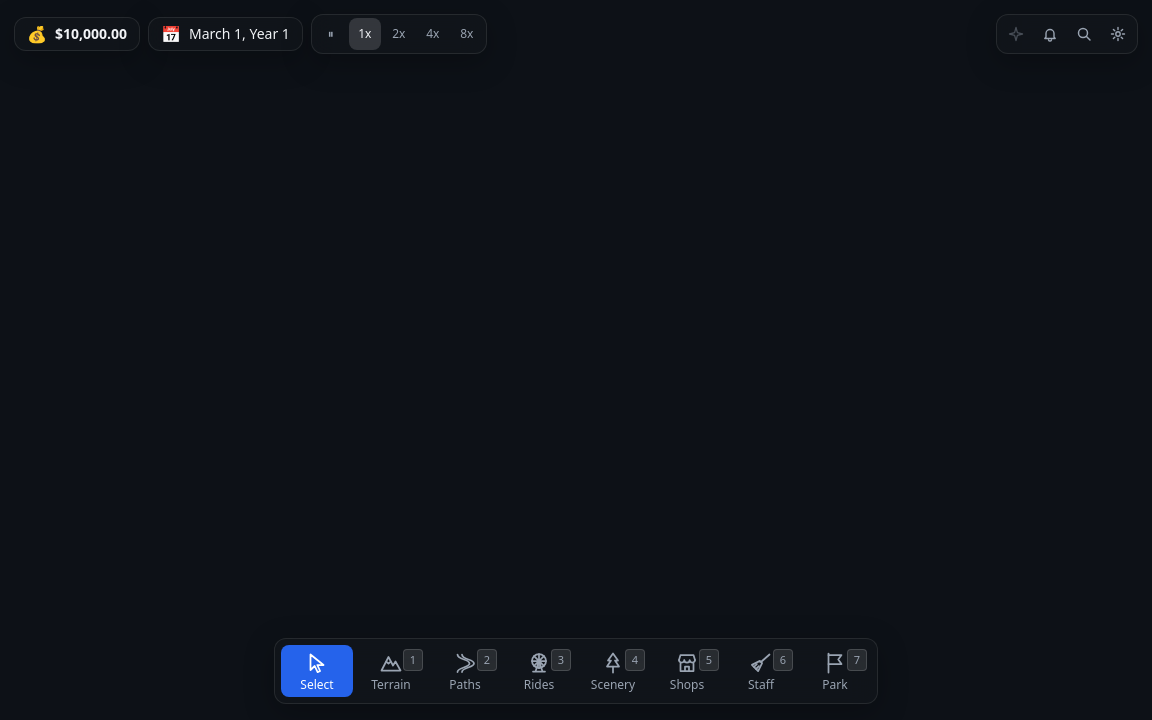
Test: the keyboard map › closes with ? a second time, and with a click outside
The image size is (1152, 720).
Press ?
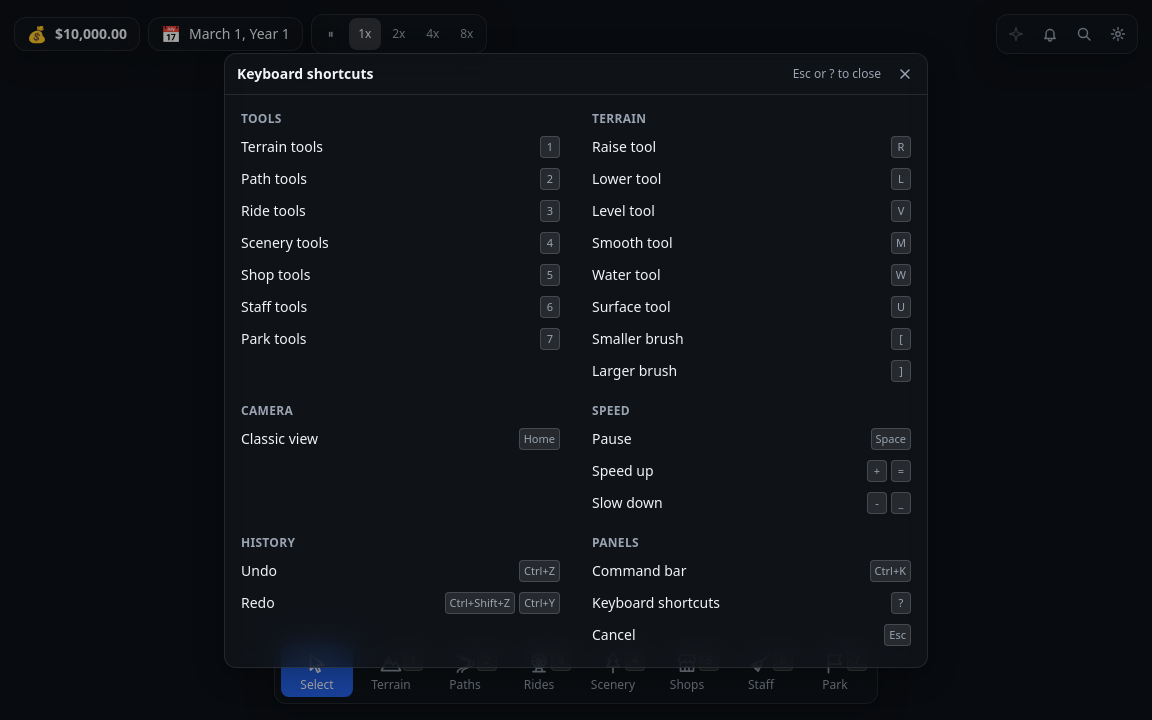
Check: the dialog "Keyboard shortcuts" is shown, box [224,52,928,668]
Press ?
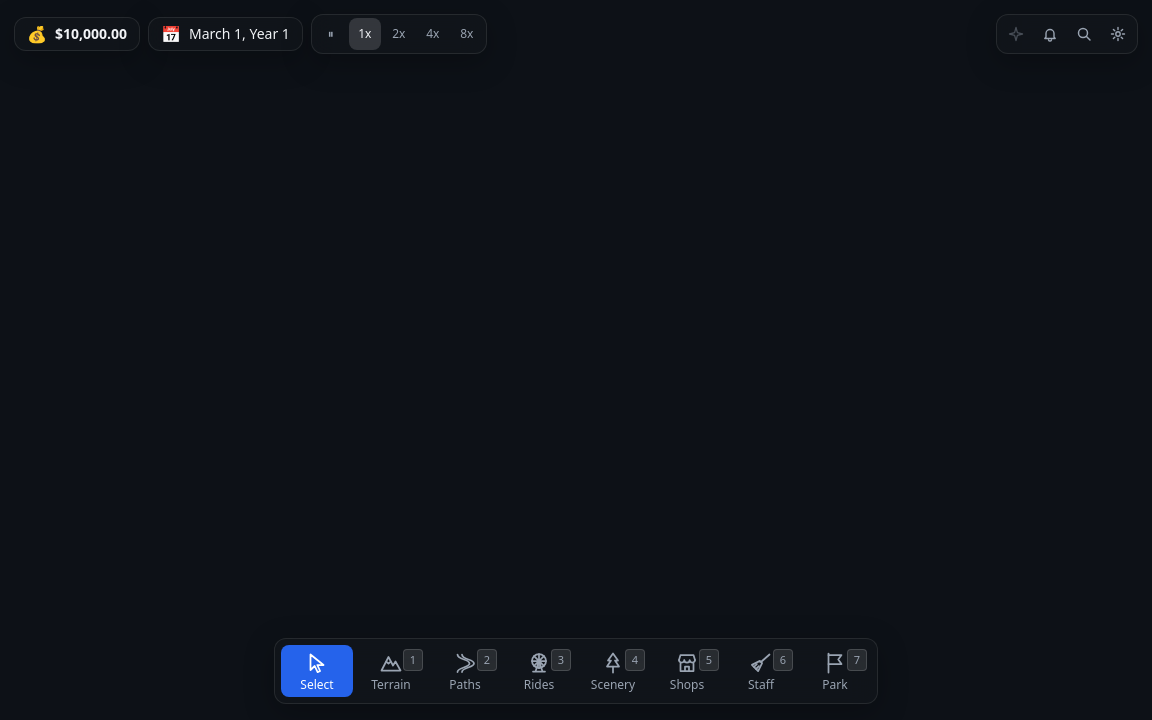
Check: the heading "Keyboard shortcuts" is gone
Press ?
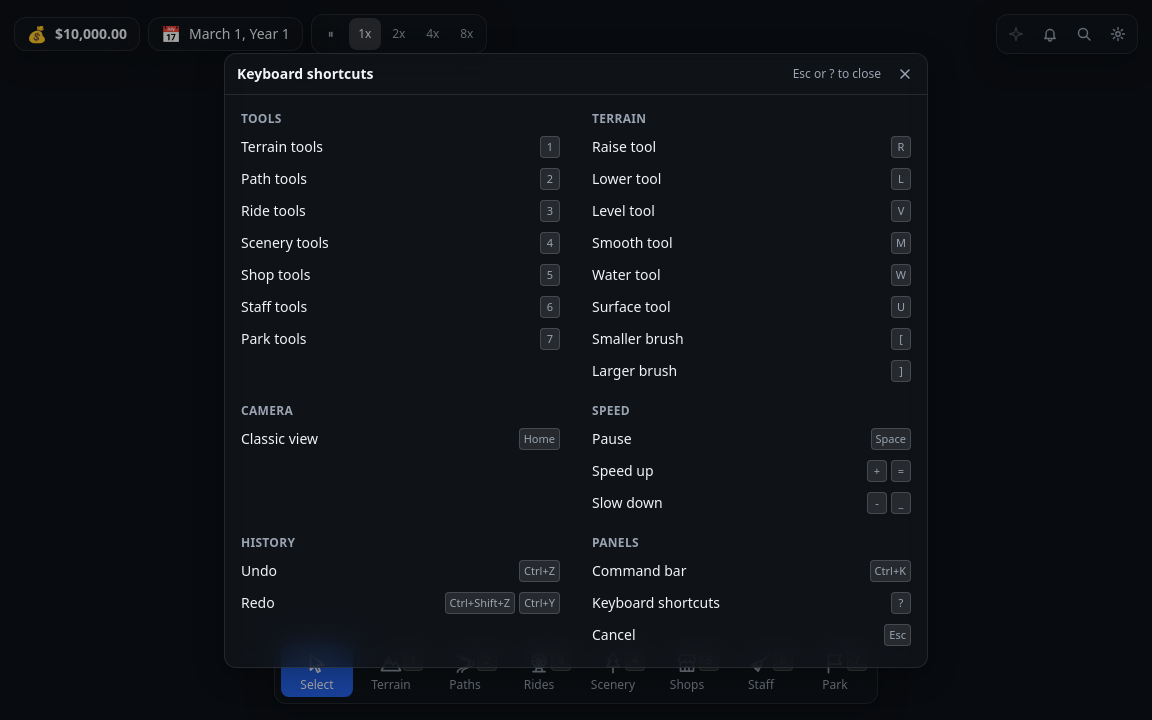
Click the element with test id "help-backdrop" at (69,360), box [0,0,1151,719]
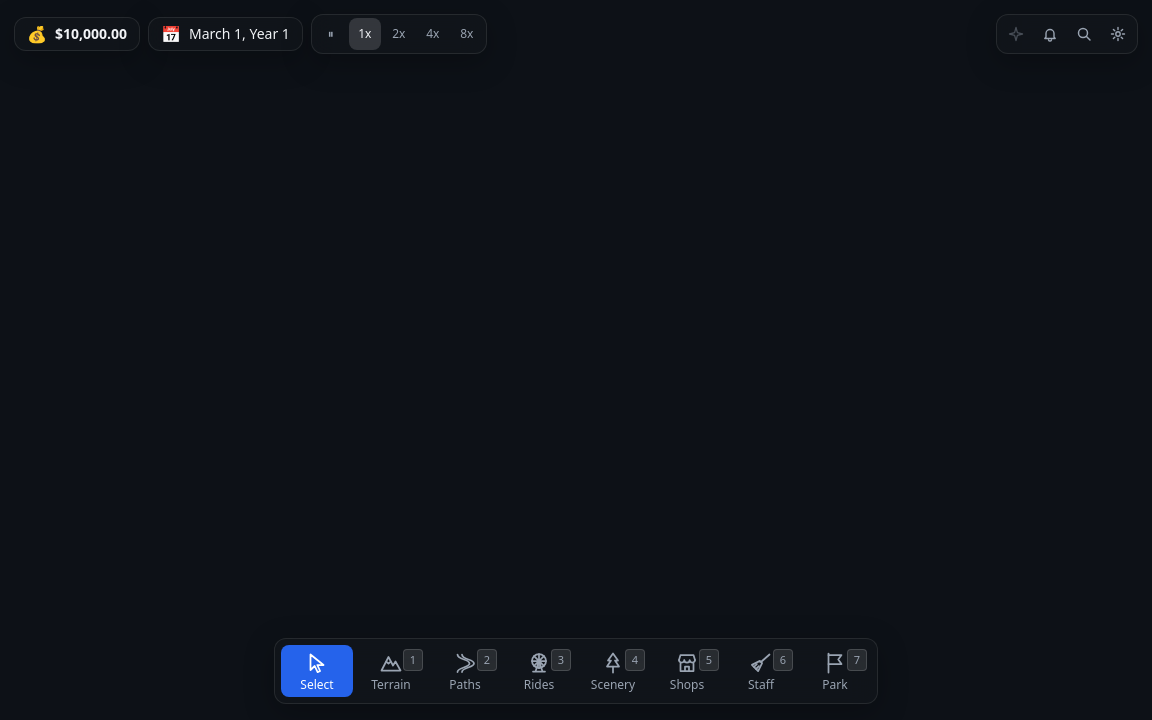
Check: the heading "Keyboard shortcuts" is gone
